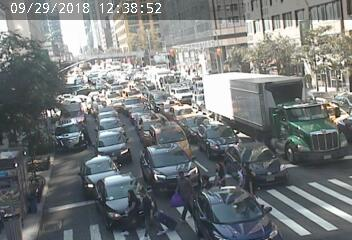car: (205, 81, 341, 150), (199, 192, 263, 225), (145, 146, 197, 180), (229, 147, 284, 176), (100, 178, 145, 213), (53, 115, 92, 152), (202, 124, 240, 153), (96, 132, 132, 159), (82, 158, 121, 182), (161, 77, 196, 100), (152, 125, 187, 145), (182, 116, 211, 140), (135, 115, 155, 139), (102, 118, 126, 132), (171, 107, 193, 120), (123, 100, 143, 113), (98, 108, 118, 118), (106, 92, 122, 103)
